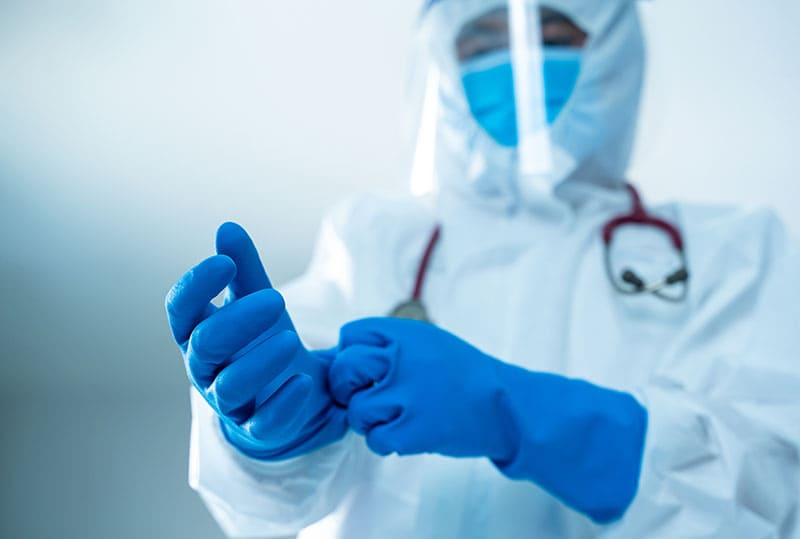Coverall: (245, 178, 800, 539)
Gloves: (332, 309, 638, 484), (163, 219, 346, 466)
with_mask: (450, 9, 590, 144)
